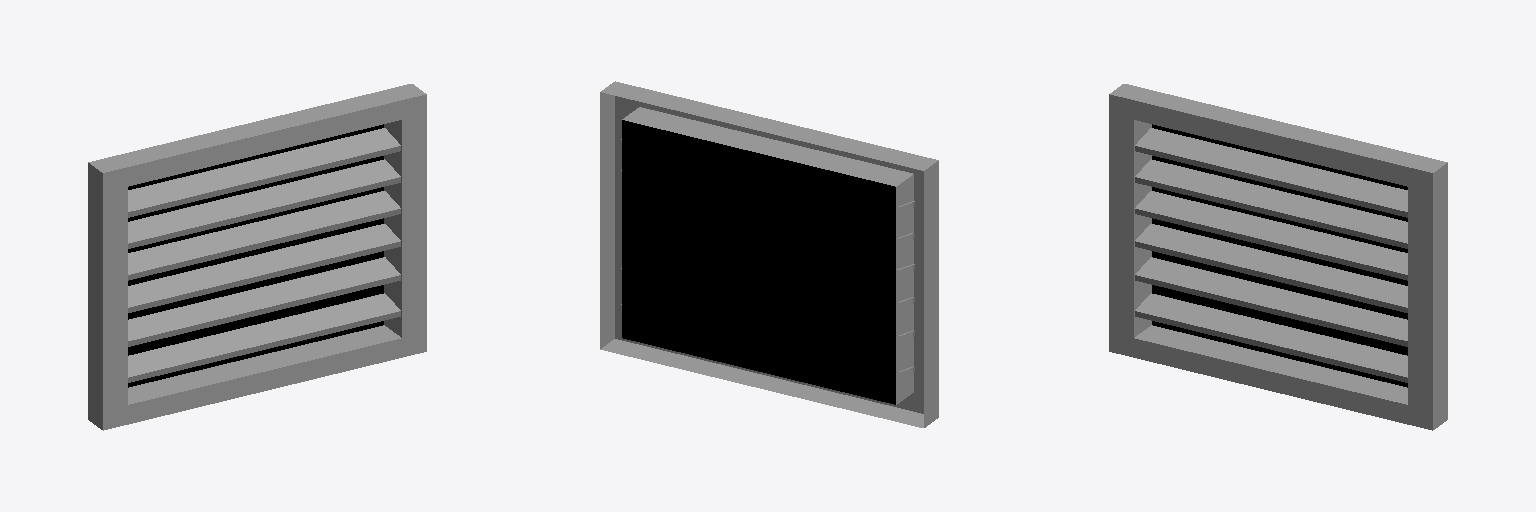
File: Vent.obj
3 renders of one model, left to right at view 1: azimuth 30°, elevation 25°; view 2: azimuth 150°, elevation 25°; view 3: azimuth 330°, elevation 25°, orthographic.
Parts seen in each view (by area): view 1: group1 pCube1 polySurface2, group1 polySurface1 pCube1, group1 pCube7, group1 pCube2, group1 pCube4, pCube5 group1, group1 pCube3, group1 pCube6; view 2: group1 polySurface1 pCube1, group1 pCube1 polySurface2; view 3: group1 pCube1 polySurface2, group1 polySurface1 pCube1, group1 pCube7, group1 pCube2, group1 pCube4, pCube5 group1, group1 pCube3, group1 pCube6.
Part boxes in pixels (x1,y1,x2,y2): group1 pCube1 polySurface2: (88, 84, 426, 430); group1 polySurface1 pCube1: (128, 124, 383, 387); group1 pCube7: (128, 128, 400, 217); group1 pCube2: (128, 191, 400, 280); group1 pCube4: (128, 257, 400, 346); pCube5 group1: (128, 293, 400, 382); group1 pCube3: (128, 159, 400, 248); group1 pCube6: (128, 224, 400, 312); group1 polySurface1 pCube1: (622, 120, 895, 404); group1 pCube1 polySurface2: (600, 81, 938, 427); group1 pCube1 polySurface2: (1109, 84, 1447, 430); group1 polySurface1 pCube1: (1152, 124, 1407, 387); group1 pCube7: (1135, 128, 1407, 217); group1 pCube2: (1135, 191, 1407, 280); group1 pCube4: (1135, 257, 1407, 346); pCube5 group1: (1135, 293, 1407, 382); group1 pCube3: (1135, 159, 1407, 248); group1 pCube6: (1135, 224, 1407, 312).
Size of the model in its own units: 2.11 by 1.61 by 0.2006.